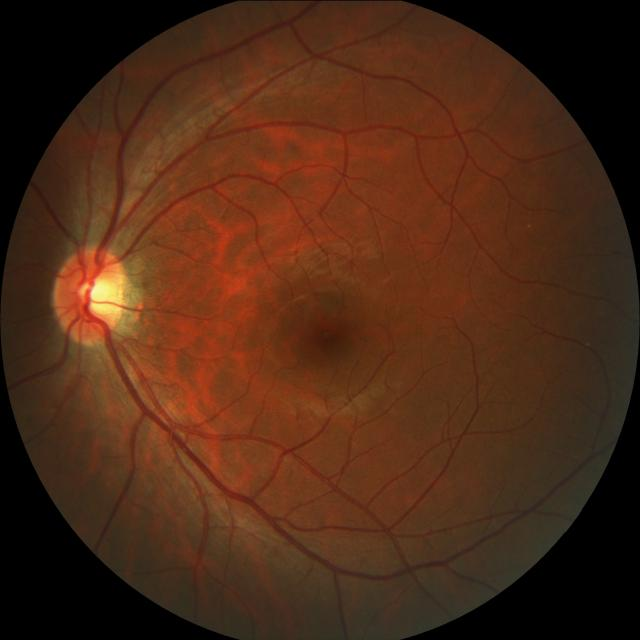OC: (76, 273, 118, 316)
OD: (52, 244, 126, 342)
